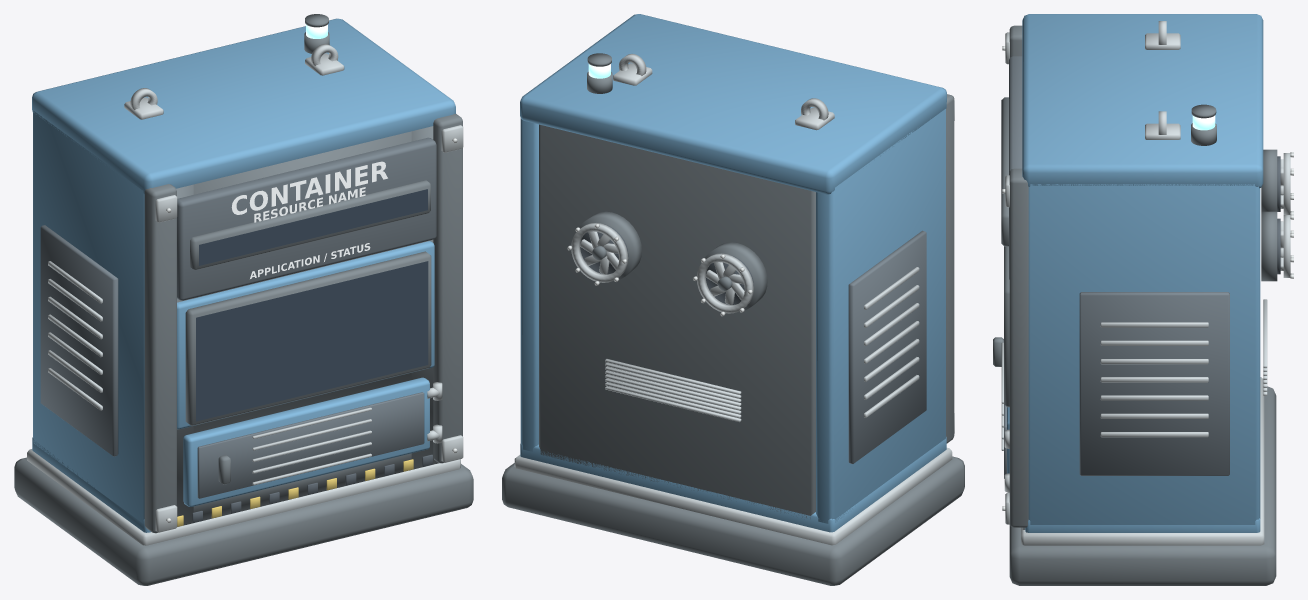
File: container_machine_enhanced.glb
The picture shows the model from 3 angles, left to right: view 1: azimuth 30°, elevation 25°; view 2: azimuth 150°, elevation 25°; view 3: azimuth 270°, elevation 25°; orthographic projection. The views are drawn at different scales.
Visible parts, largest first — view 1: Roof_blue, LiveViewSurface_glass, SideWall_blue, Skid_frame, CornerPost_frame, FrontHeader_graphite, SideServicePanel_graphite, DoorMoving_Inset_graphite, DoorMoving_Panel_blue, SkidDeck_steel, LiveViewSurfaceFrame_frame, ResourceNameSurface_glass (+15 smaller); view 2: BackWall_frame, Roof_blue, SideWall_blue, Skid_frame, SideServicePanel_graphite, SkidDeck_steel, KickPlate_blue, RearFan_steel, RearVent_steel, CornerPost_frame, RearFan_frame, SideLouver_steel (+3 smaller); view 3: SideWall_blue, Roof_blue, SideServicePanel_graphite, Skid_frame, CornerPost_frame, SideLouver_steel, SkidDeck_steel, RearFan_frame, KickPlate_blue, FrontHeader_graphite, RearFan_steel, ResourceNameSurfaceFrame_frame (+7 smaller).
Boxes of the visible parts, x1,y1,x2,y2 form: Roof_blue: (32,18,455,194); LiveViewSurface_glass: (196,261,428,421); SideWall_blue: (33,111,144,523); Skid_frame: (14,457,473,585); CornerPost_frame: (144,114,462,533); FrontHeader_graphite: (177,137,436,300); SideServicePanel_graphite: (40,225,118,456); DoorMoving_Inset_graphite: (197,392,424,498); DoorMoving_Panel_blue: (183,377,429,506); SkidDeck_steel: (27,449,460,545); LiveViewSurfaceFrame_frame: (185,251,431,425); ResourceNameSurface_glass: (199,189,427,265); BackWall_frame: (539,124,815,518); Roof_blue: (520,14,946,194); SideWall_blue: (520,109,945,523); Skid_frame: (502,456,964,585); SideServicePanel_graphite: (848,230,926,463); SkidDeck_steel: (514,447,952,545); KickPlate_blue: (520,437,946,532); RearFan_steel: (571,223,753,313); RearVent_steel: (605,359,741,422); CornerPost_frame: (946,94,954,443); RearFan_frame: (579,211,767,311); SideLouver_steel: (864,267,919,417); SideWall_blue: (1028,184,1260,524); Roof_blue: (1022,14,1263,188); SideServicePanel_graphite: (1079,292,1229,475); Skid_frame: (1009,386,1276,585); CornerPost_frame: (1009,25,1028,527); SideLouver_steel: (1100,322,1208,437); SkidDeck_steel: (1021,377,1264,545); RearFan_frame: (1261,149,1277,281); KickPlate_blue: (1025,518,1260,532); FrontHeader_graphite: (1009,56,1022,279); RearFan_steel: (1280,153,1290,277); ResourceNameSurfaceFrame_frame: (1001,97,1008,246).
Bounding box in the file's own units: 2 × 2.48 × 1.51.
